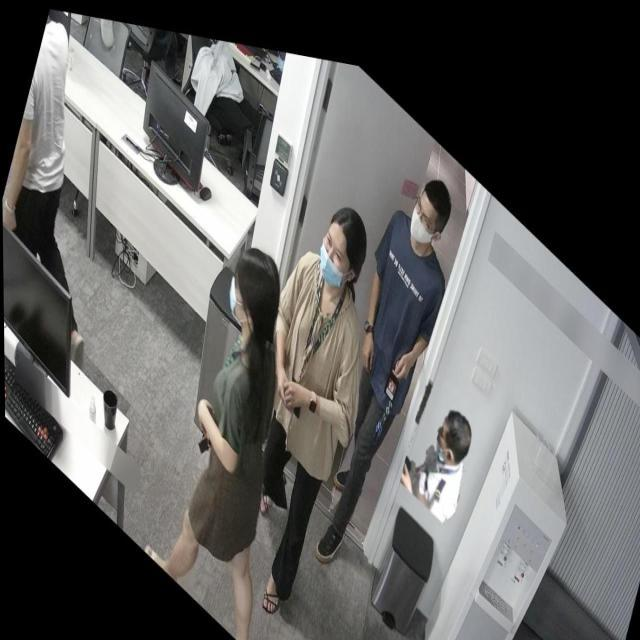hairnet: (436, 398, 464, 466)
